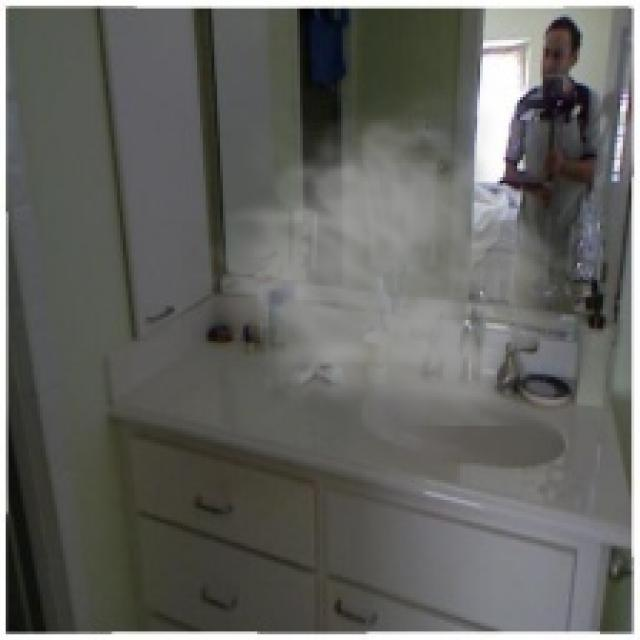Smoke: (194, 80, 592, 426)
